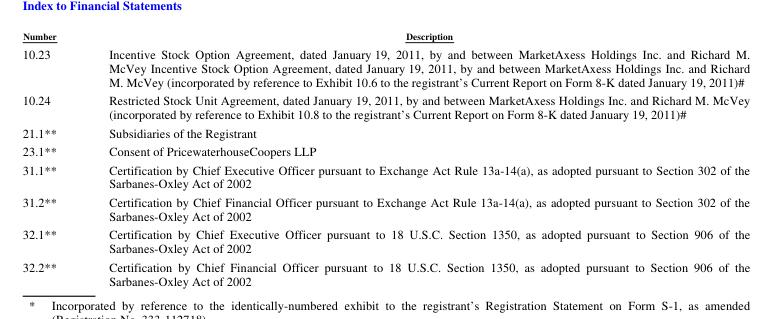table: (21, 29, 749, 288)
table column: (82, 29, 749, 288), (21, 29, 82, 288)
table column header: (21, 29, 749, 43)
table row: (21, 43, 749, 90), (21, 191, 749, 224), (21, 90, 749, 122), (21, 159, 749, 191), (21, 224, 749, 256), (21, 256, 749, 288), (21, 140, 749, 159), (21, 122, 749, 140), (21, 29, 749, 43)
